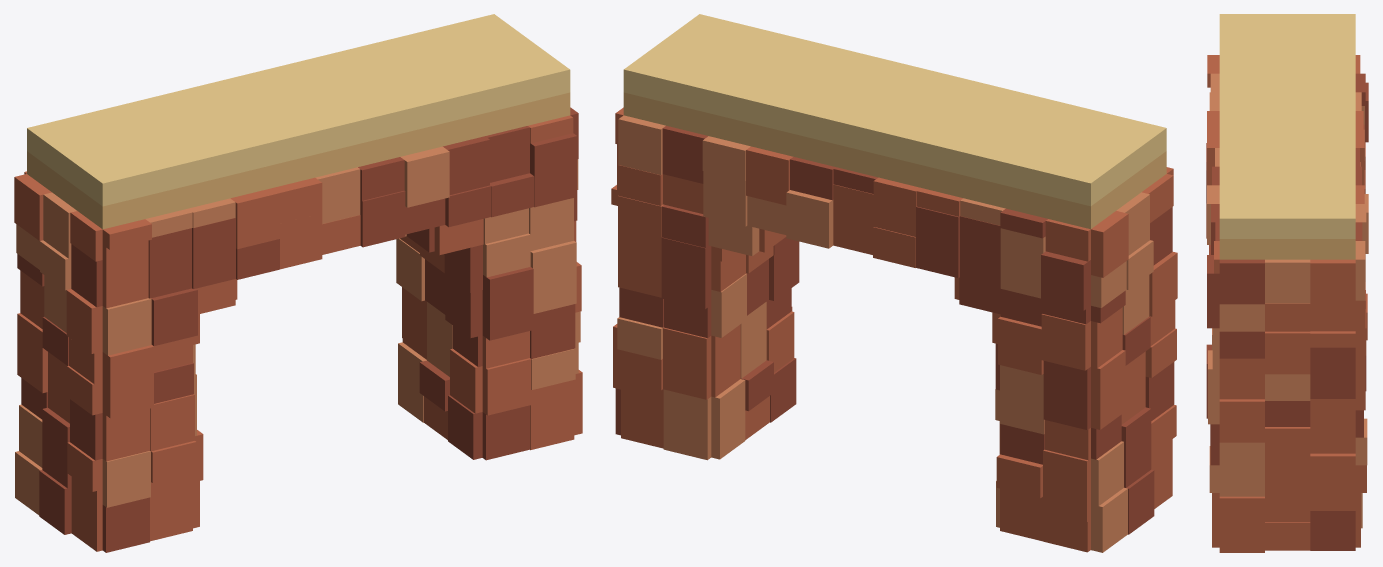
The model's file is DesertArch.glb.
3 renders of one model, left to right at view 1: azimuth 30°, elevation 25°; view 2: azimuth 150°, elevation 25°; view 3: azimuth 270°, elevation 25°, orthographic. The views are drawn at different scales.
Visible parts, largest first — view 1: DesertArch; view 2: DesertArch; view 3: DesertArch.
Part boxes in pixels (x1=…): DesertArch: x1=14, y1=14, x2=582, y2=552; DesertArch: x1=611, y1=14, x2=1177, y2=552; DesertArch: x1=1206, y1=14, x2=1368, y2=552.
Size of the model in its own units: 33.73 by 24 by 10.75.
1 material, 1 textured.
